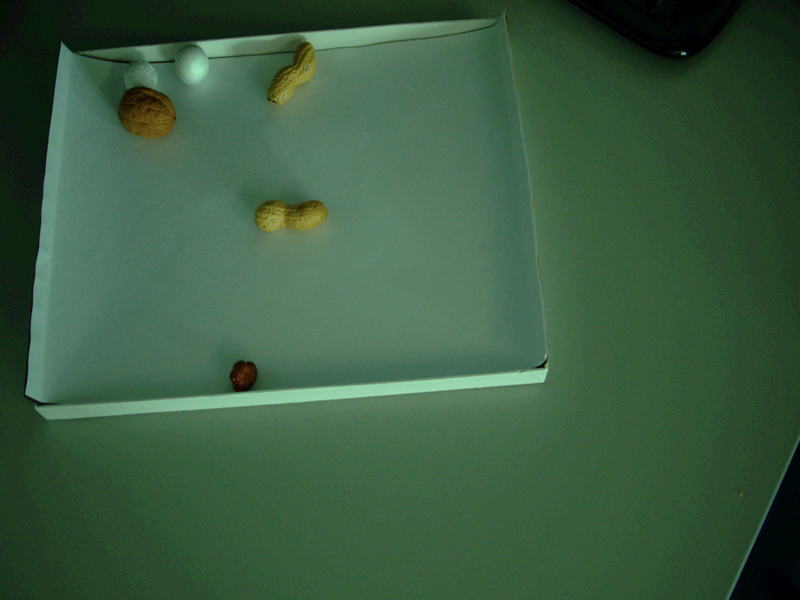walnut: (112, 83, 184, 144)
